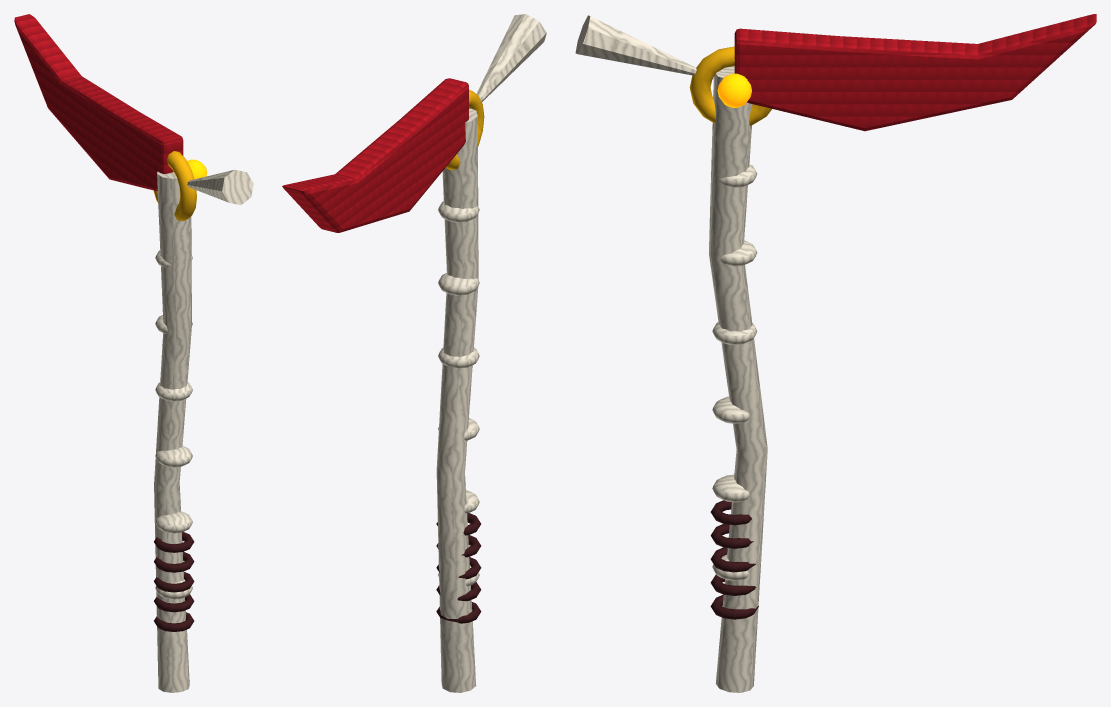
The model's file is pickaxe_dragonfang.glb.
3 renders of one model, left to right at view 1: azimuth 30°, elevation 25°; view 2: azimuth 150°, elevation 25°; view 3: azimuth 270°, elevation 25°, orthographic. The views are drawn at different scales.
Parts seen in each view (by area): view 1: pickaxe_dragonfang; view 2: pickaxe_dragonfang; view 3: pickaxe_dragonfang.
Boxes of the visible parts, x1,y1,x2,y2 form: pickaxe_dragonfang: [14, 14, 253, 692]; pickaxe_dragonfang: [282, 14, 546, 692]; pickaxe_dragonfang: [575, 14, 1096, 692].
Size of the model in its own units: 0.077 by 0.8523 by 0.6008.
Materials: 5 (3 with a texture image).
